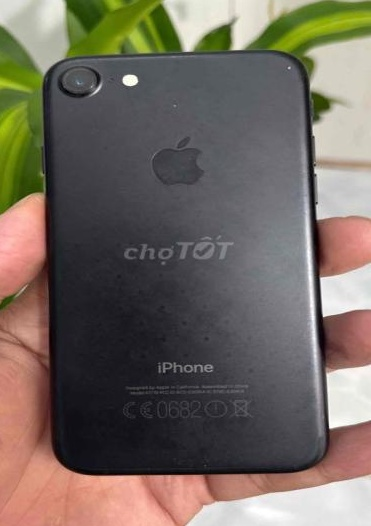scratch: (268, 55, 300, 75), (160, 90, 189, 111)
